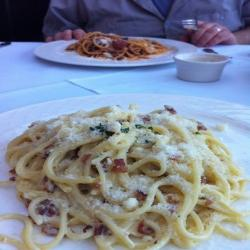bolonese_pasta: (64, 30, 172, 66)
carbonara: (10, 104, 245, 250)
